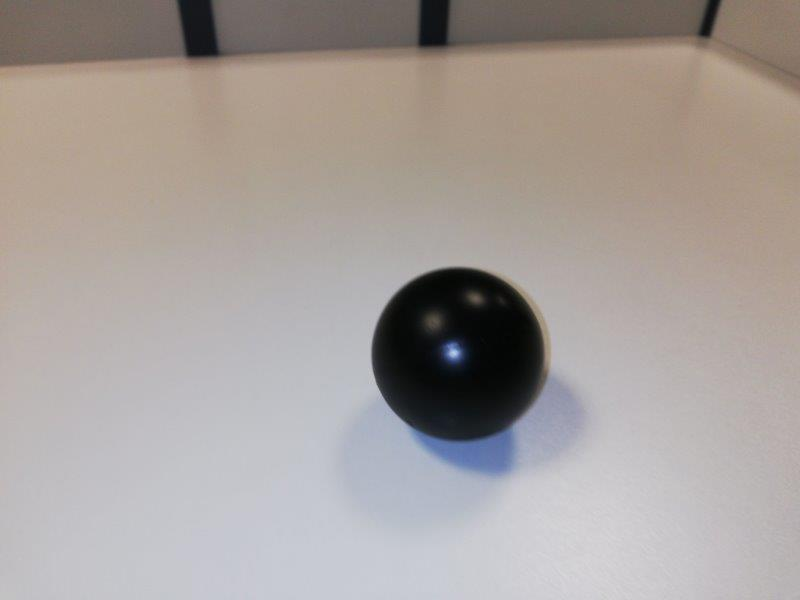nera: (370, 266, 546, 442)
